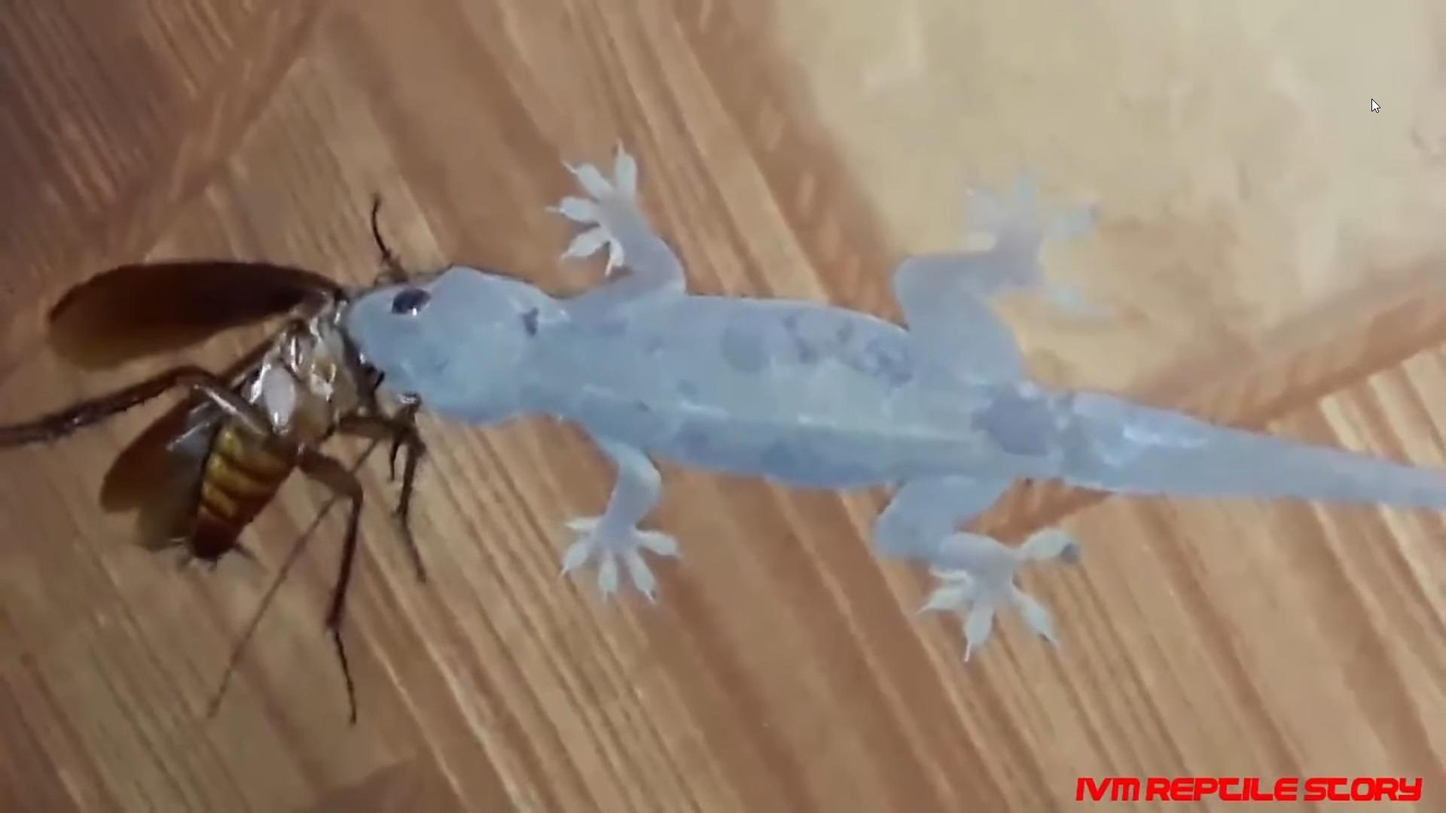cockroach: (61, 267, 356, 582)
lizard: (337, 140, 1402, 672)
